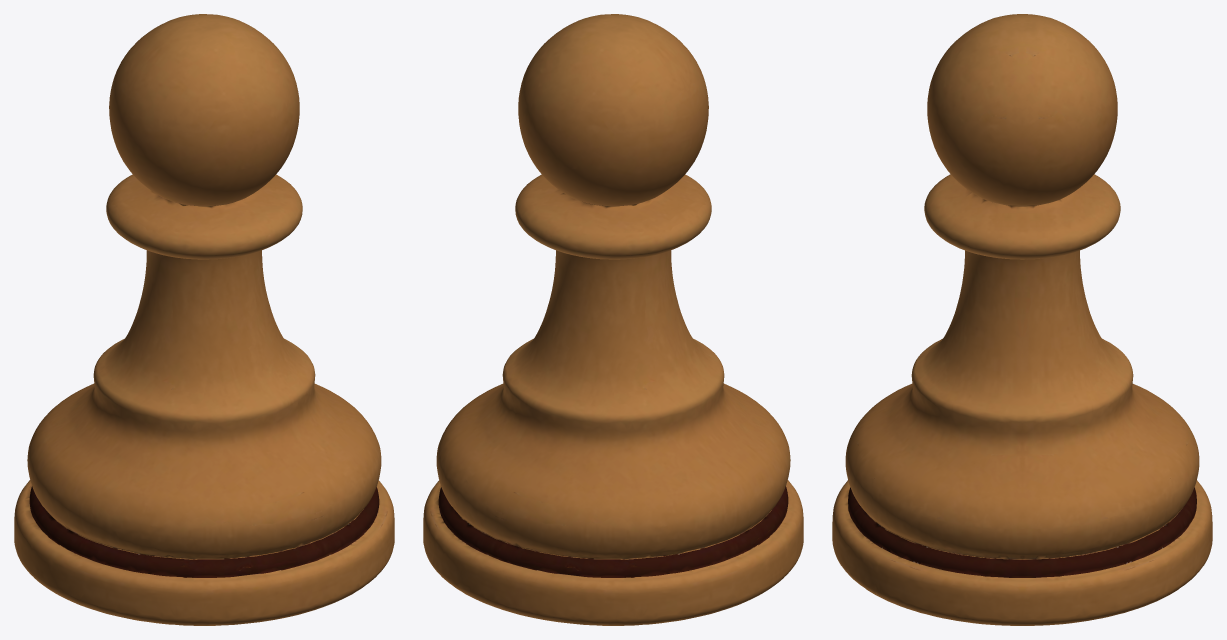
File: 11_pawn_light.glb
3 views of the same model, side by side, from view 1: azimuth 30°, elevation 25°; view 2: azimuth 150°, elevation 25°; view 3: azimuth 270°, elevation 25° (orthographic).
Parts seen in each view (by area): view 1: world; view 2: world; view 3: world.
Boxes of the visible parts, x1,y1,x2,y2 form: world: (14,14,394,625); world: (423,14,803,625); world: (832,14,1212,625).
Bounding box in the file's own units: 0.6591 × 1 × 0.6591.
Materials: 1 (1 with a texture image).
